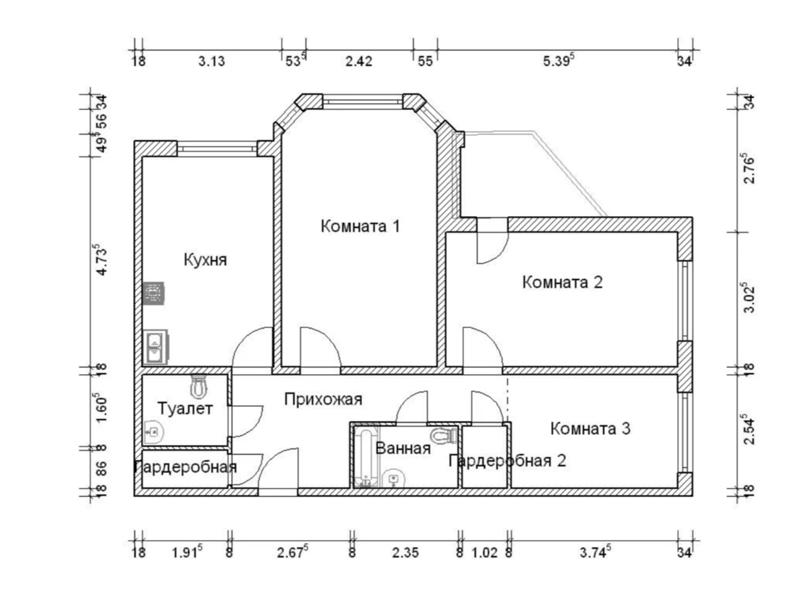bathroom: (354, 426, 459, 487)
bedroom: (445, 232, 679, 368), (511, 375, 679, 490)
hallway: (232, 375, 508, 488)
kitchen: (142, 155, 275, 367)
living_room: (281, 108, 437, 366)
toilet: (144, 375, 228, 446)
walk_in_closet: (143, 449, 229, 487), (461, 425, 508, 489)
